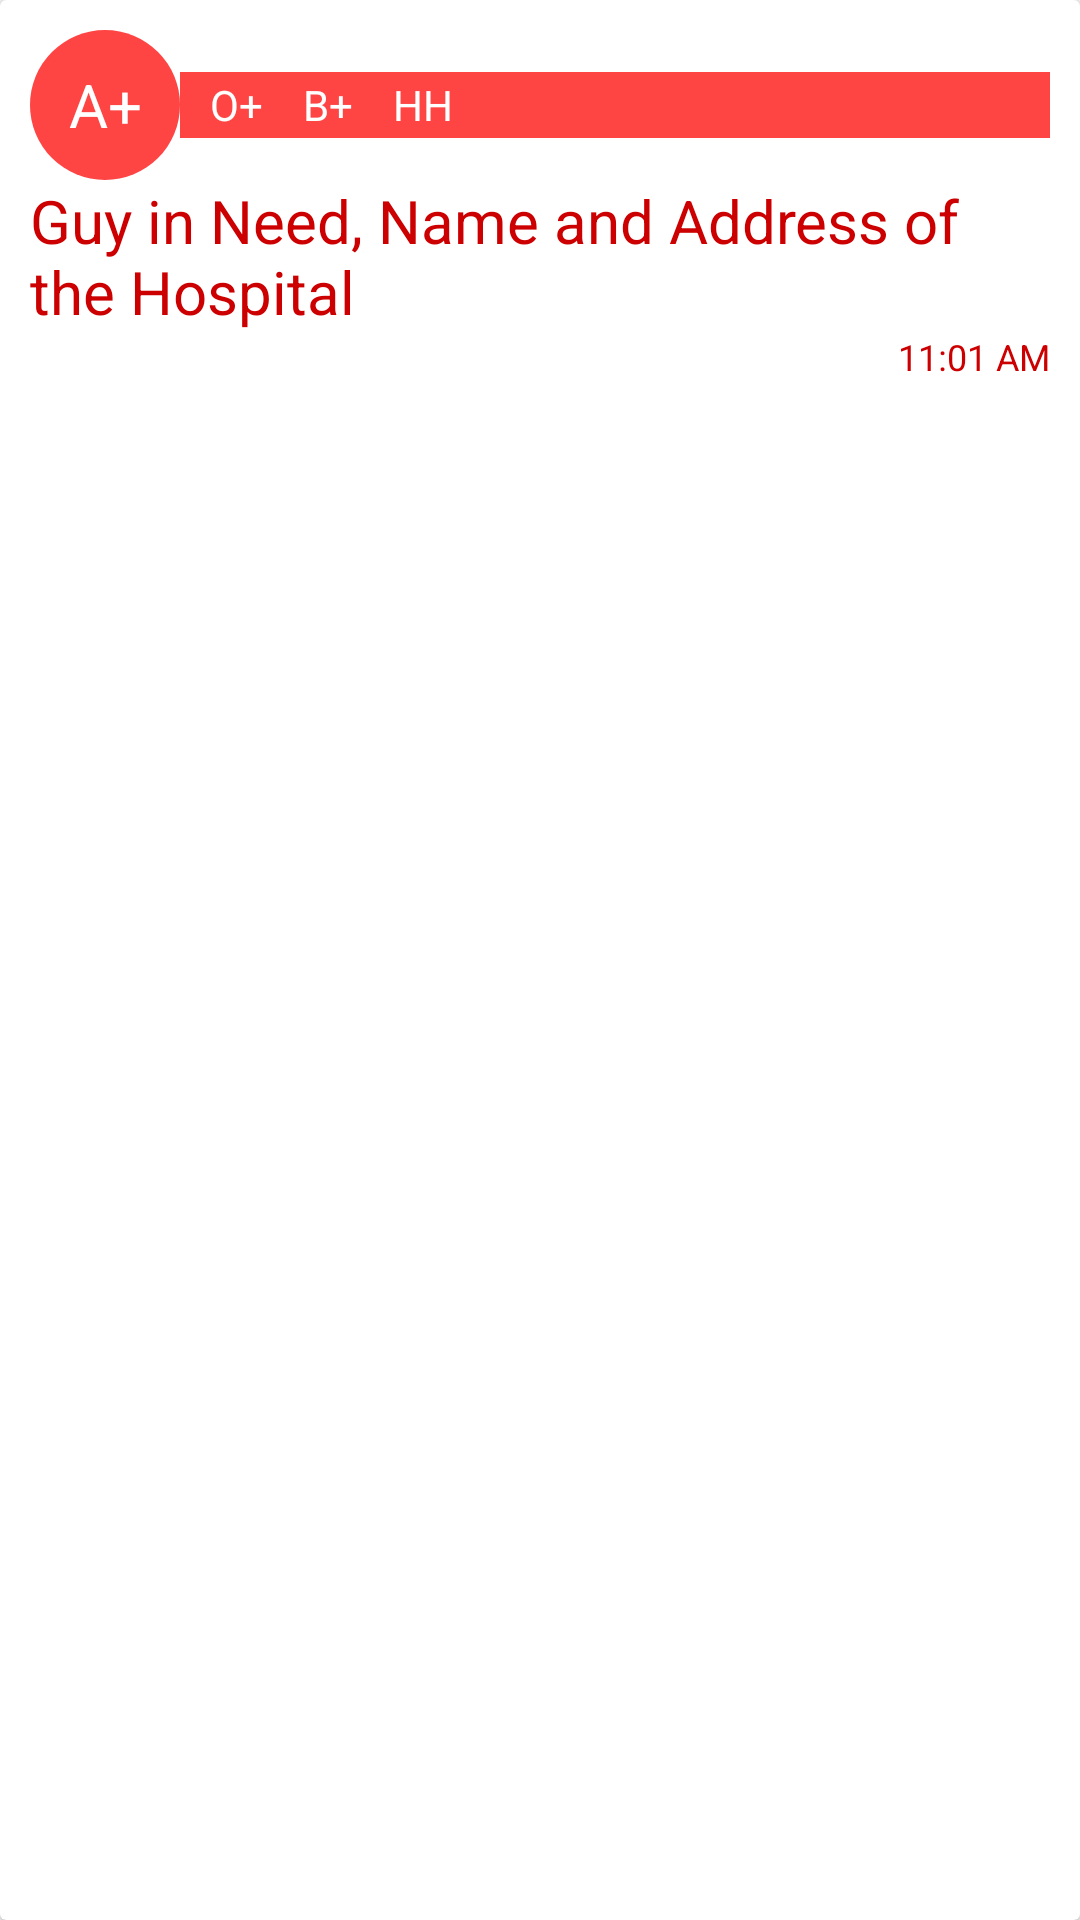

Where icons sit on this 1080px x 1920px app screen, as (x1, y1, x2, y2):
Pimary Blood Group: (30, 30, 180, 180)
